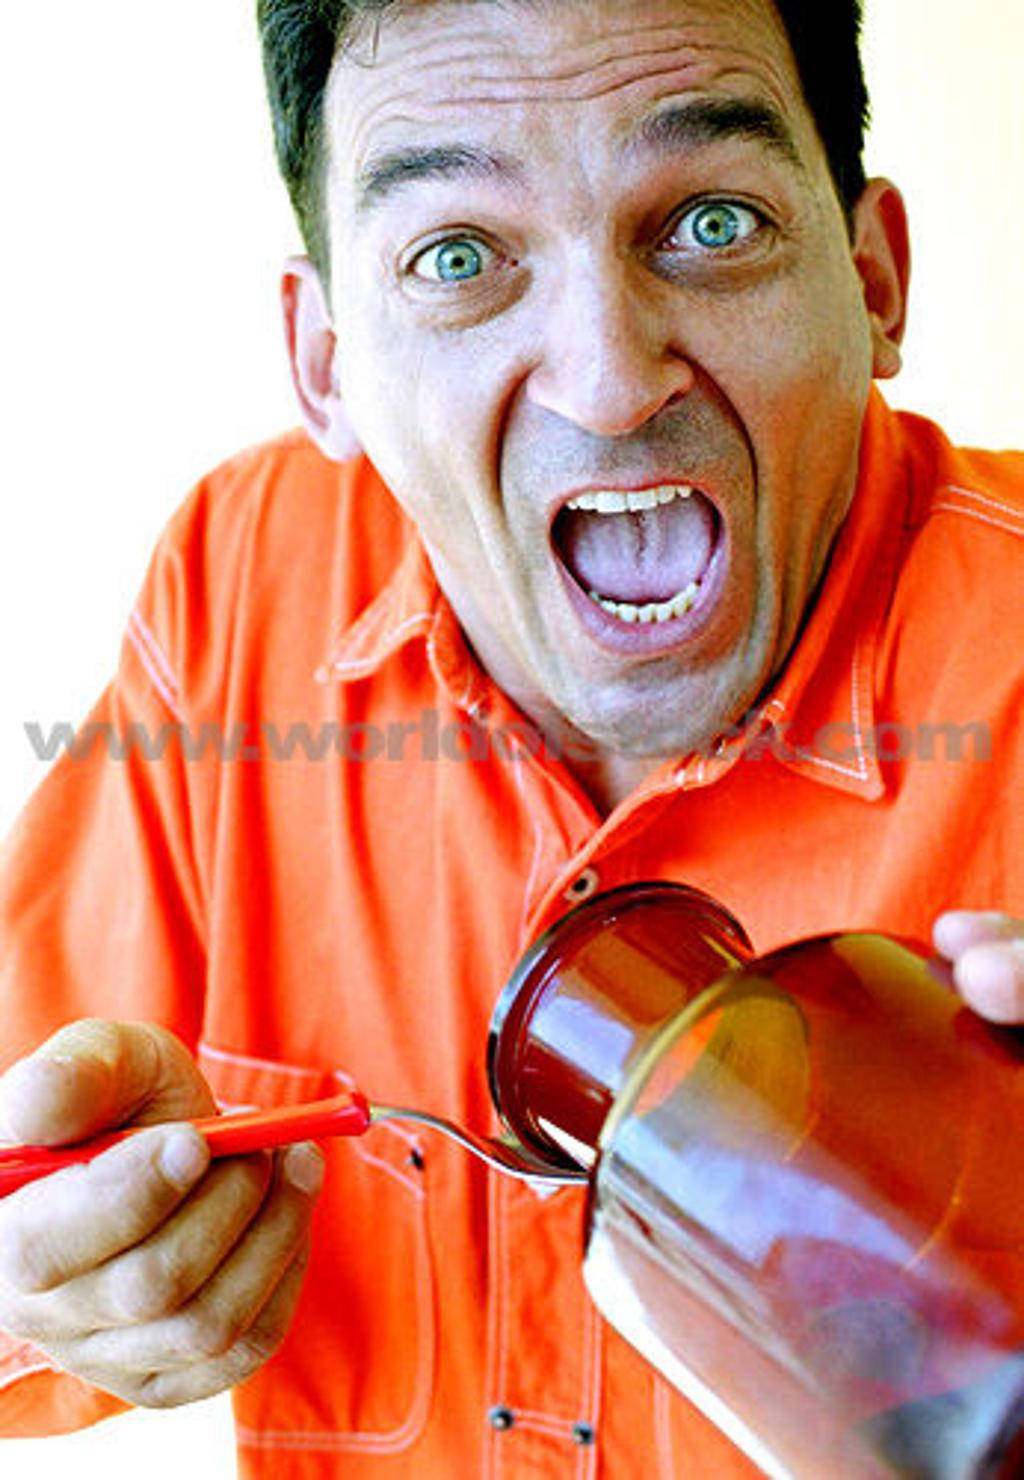face: (339, 27, 860, 747)
